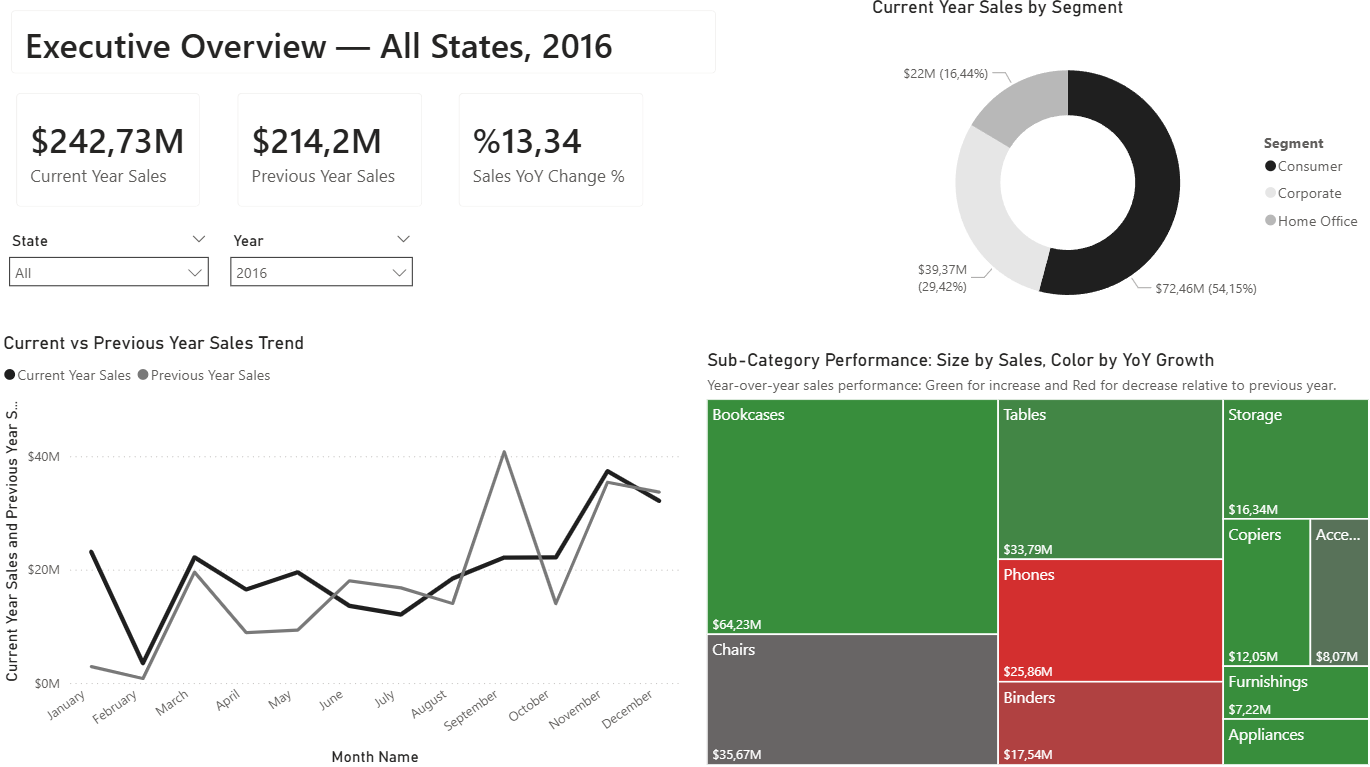

The dashboard page shown, as its layout file describes it:
{"tool":"powerbi","page":{"name":"Executive Overview","canvas":[1280,720],"ordinal":0},"visuals":[{"type":"lineChart","title":"Current vs Previous Year Sales Trend","fields":{"Category":["Dim_Date.Month Name"],"Y":["_Measures.Current Year Sales","_Measures.Previous Year Sales"]},"box":[0,312.2,639.4,408],"z":0},{"type":"cardVisual","fields":{"Data":["_Measures.Current Year Sales"]},"box":[0,73.4,205.3,140.6],"z":1000},{"type":"donutChart","title":"Current Year Sales by Segment","fields":{"Y":["_Measures.Current Year Sales"],"Category":["Dim_Customer.Segment"]},"box":[808.6,0,471.5,328.4],"z":2000},{"type":"cardVisual","fields":{"Data":["_Measures.Sales Last Year"]},"box":[205.3,73.4,206.5,140.6],"z":3000},{"type":"treemap","title":"Sub-Category Performance: Size by Sales, Color by YoY Growth","fields":{"Group":["Dim_Product.Sub-Category"],"Values":["_Measures.Total Sales"]},"box":[654.3,328.4,625.7,391.8],"z":4000},{"type":"cardVisual","fields":{"Data":["_Measures.Sales YoY Change %"]},"box":[411.8,73.4,206.5,140.6],"z":5000},{"type":"slicer","fields":{"Values":["Dim_Date.Year"]},"box":[205.3,214,190.3,64.7],"z":6000},{"type":"slicer","fields":{"Values":["Dİm_Customer.State"]},"box":[0,214,205.8,65.9],"z":7000},{"type":"cardVisual","fields":{"Data":["_Measures.Dashboard Title"]},"box":[0,1.2,685.4,83.3],"z":8000}]}

Visuals, with their boxes in screenshot pixels (x1, y1, x2, y2), scaled from the page's 1280x720 canvas onto the 1370x767 screenshot:
"Current vs Previous Year Sales Trend" lineChart: (left=0, top=333, right=684, bottom=766)
cardVisual - _Measures.Current Year Sales: (left=0, top=78, right=220, bottom=228)
"Current Year Sales by Segment" donutChart: (left=865, top=0, right=1369, bottom=350)
cardVisual - _Measures.Sales Last Year: (left=220, top=78, right=441, bottom=228)
"Sub-Category Performance: Size by Sales, Color by YoY Growth" treemap: (left=700, top=350, right=1369, bottom=766)
cardVisual - _Measures.Sales YoY Change %: (left=441, top=78, right=662, bottom=228)
slicer - Dim_Date.Year: (left=220, top=228, right=423, bottom=297)
slicer - Dİm_Customer.State: (left=0, top=228, right=220, bottom=298)
cardVisual - _Measures.Dashboard Title: (left=0, top=1, right=734, bottom=90)
